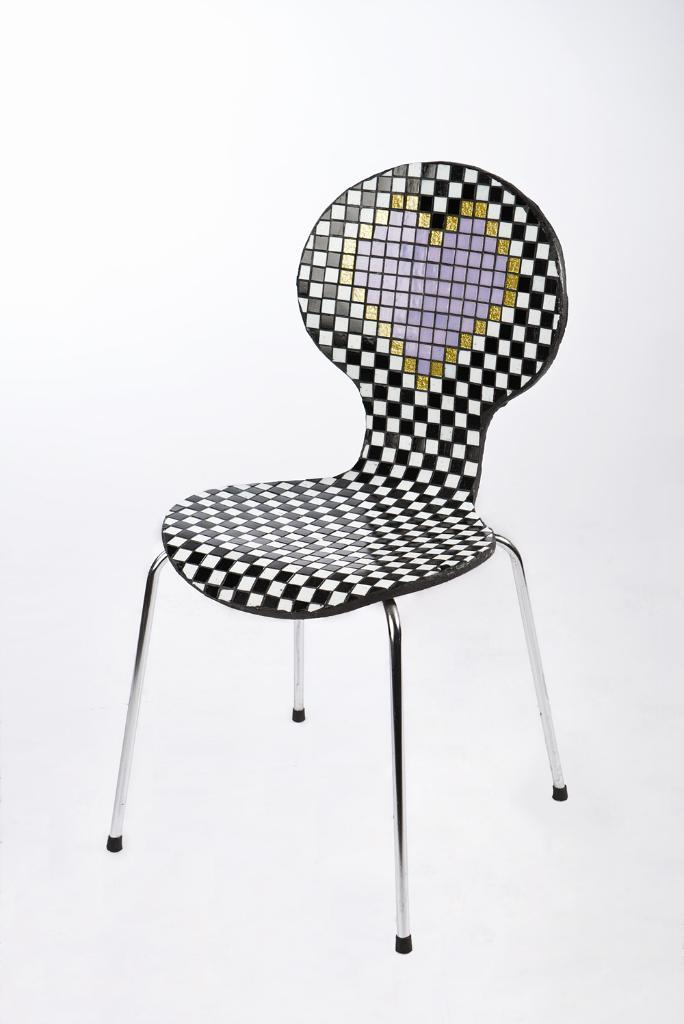Chair: (103, 164, 601, 962)
